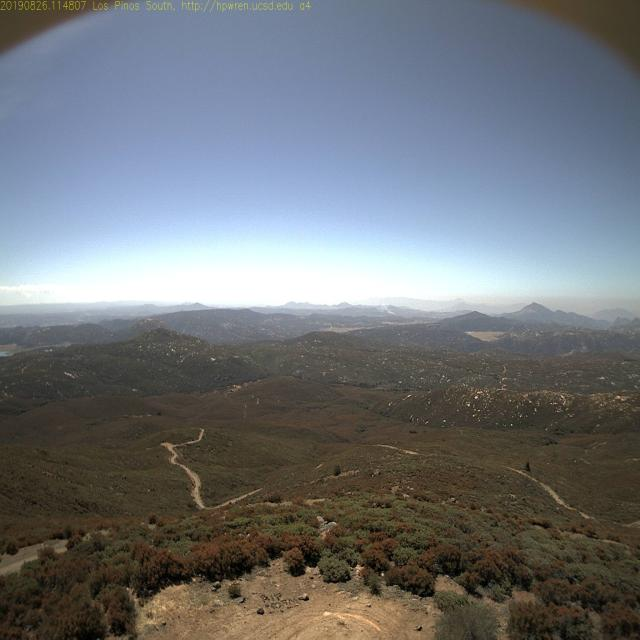smoke: (379, 304, 396, 318)
